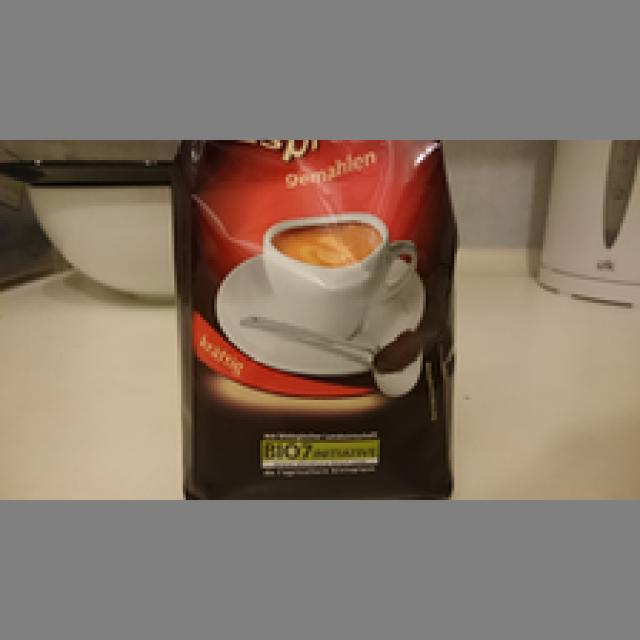groceries: (166, 137, 457, 497)
